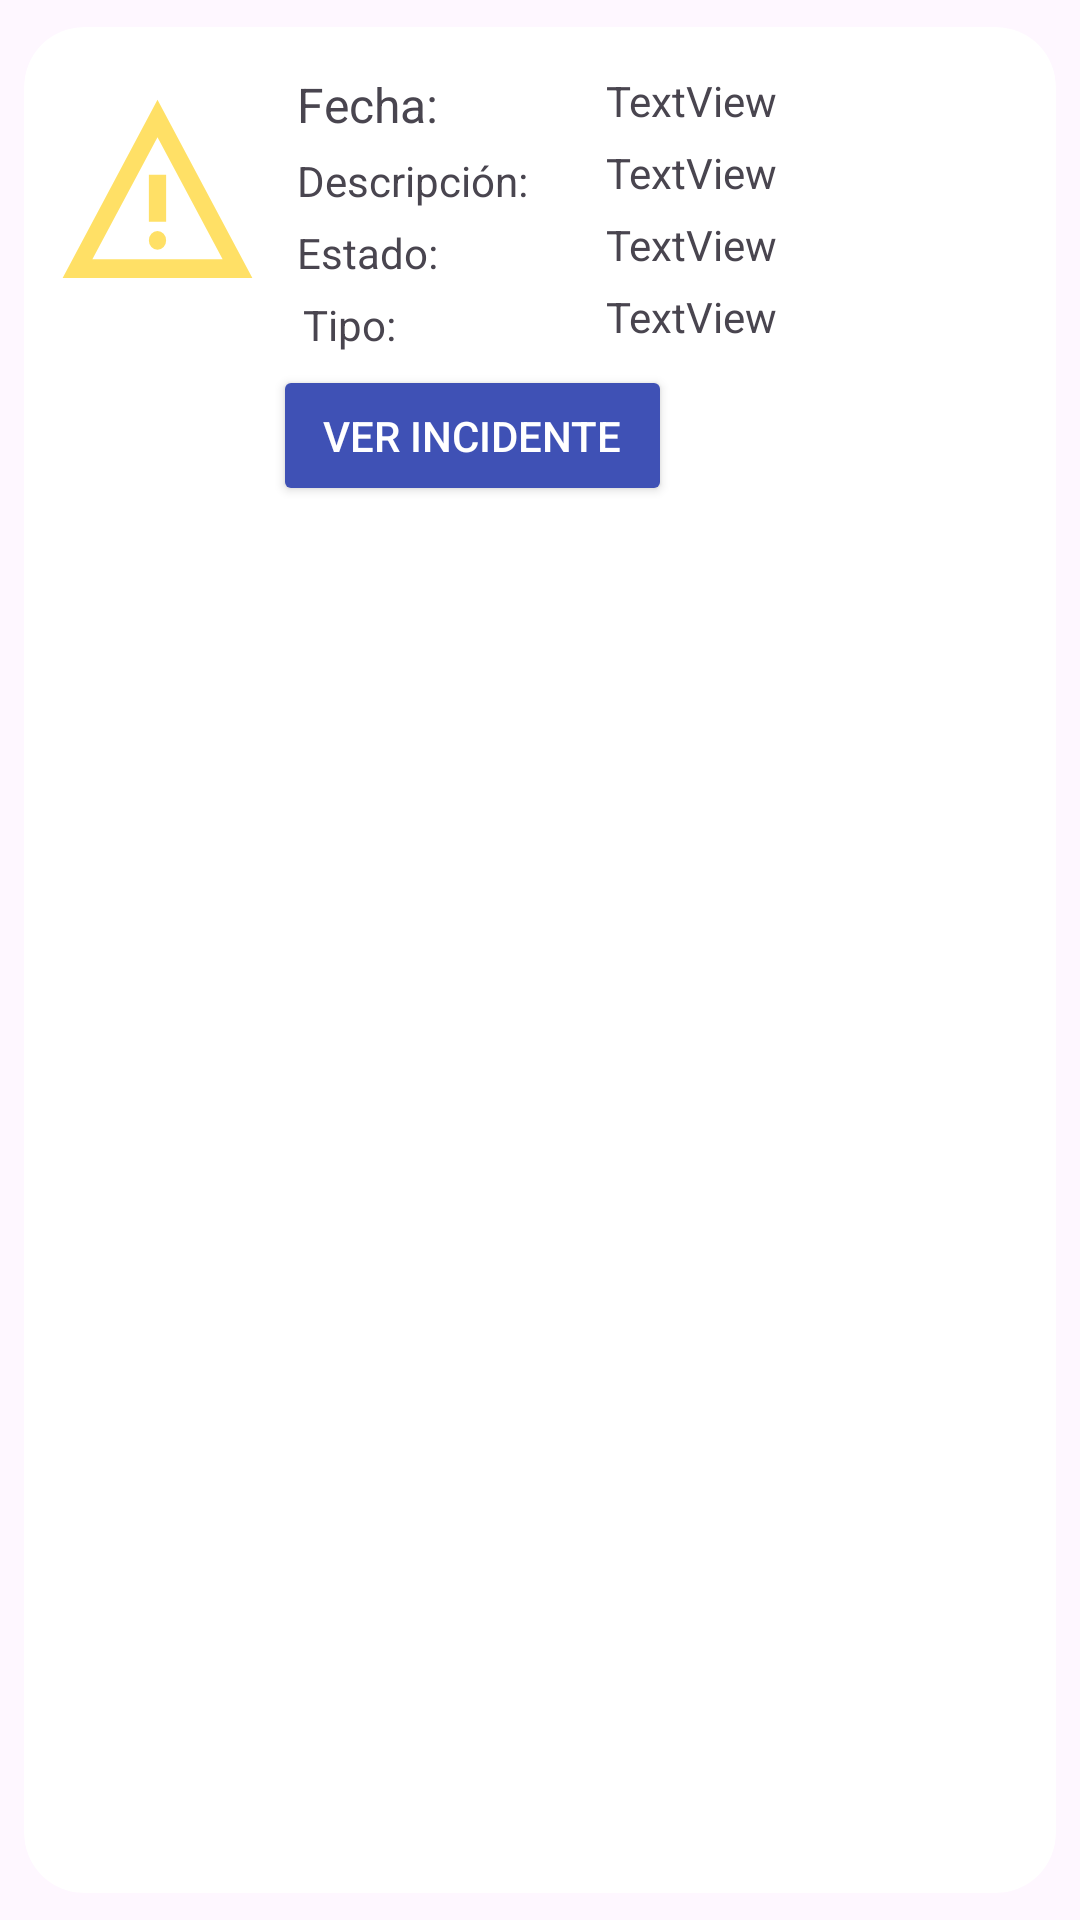

Icon click points for this 1080px×1920px phone screenshot, format [x,y]:
warning: [157,189]
